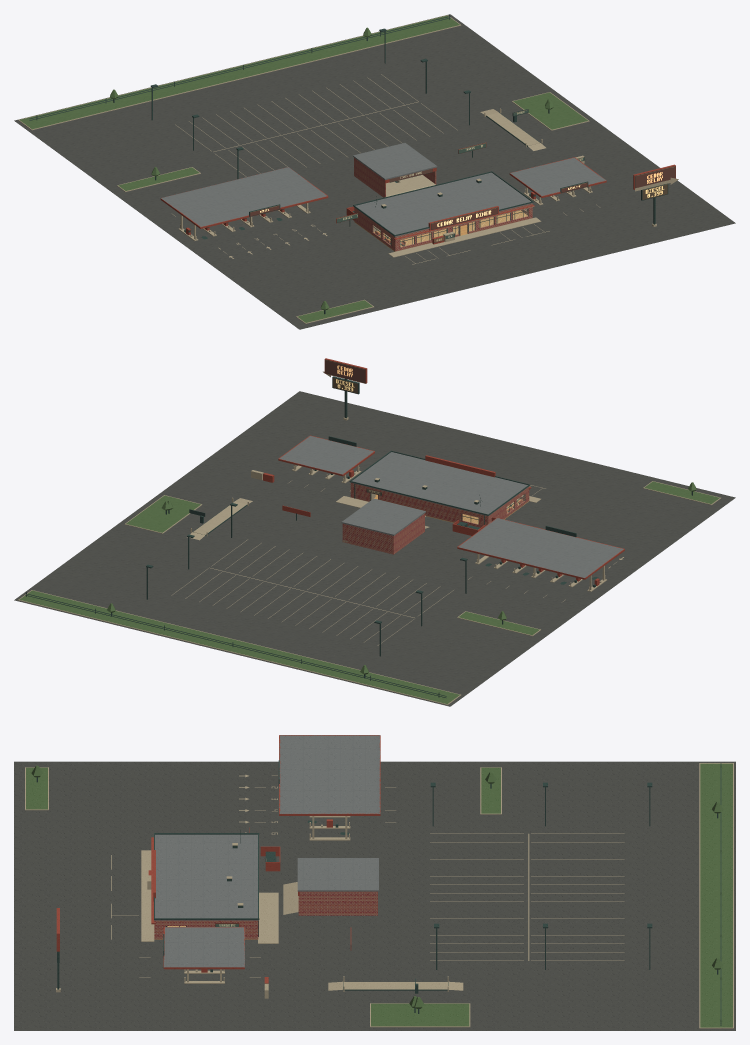
The model's file is cedar-relay-1960-mid.glb.
The picture shows the model from 3 angles, top to bottom: view 1: azimuth 30°, elevation 25°; view 2: azimuth 150°, elevation 25°; view 3: azimuth 270°, elevation 25°; orthographic projection. The views are drawn at different scales.
Visible parts, largest first — view 1: lot, building_shell, diesel_canopy, era_service_bay, car_canopy, sign_name; view 2: lot, building_shell, diesel_canopy, era_service_bay, car_canopy, sign_name_rear; view 3: lot, building_shell, diesel_canopy, era_service_bay, car_canopy.
Part boxes in pixels (x1,y1,x2,y2): lot: (14,14,735,329); building_shell: (353,171,534,251); diesel_canopy: (160,167,328,240); era_service_bay: (353,143,437,197); car_canopy: (509,157,606,205); sign_name: (635,166,675,188); lot: (14,391,735,706); building_shell: (349,450,531,527); diesel_canopy: (457,518,624,591); era_service_bay: (341,498,429,554); car_canopy: (278,435,374,483); sign_name_rear: (325,360,365,382); lot: (14,761,735,1030); building_shell: (151,830,259,939); diesel_canopy: (278,735,380,840); era_service_bay: (283,858,378,915); car_canopy: (163,927,244,983).
Size of what is drawn, in the model's own units: 127 by 15.56 by 144.
Materials: 10 (10 with a texture image).
